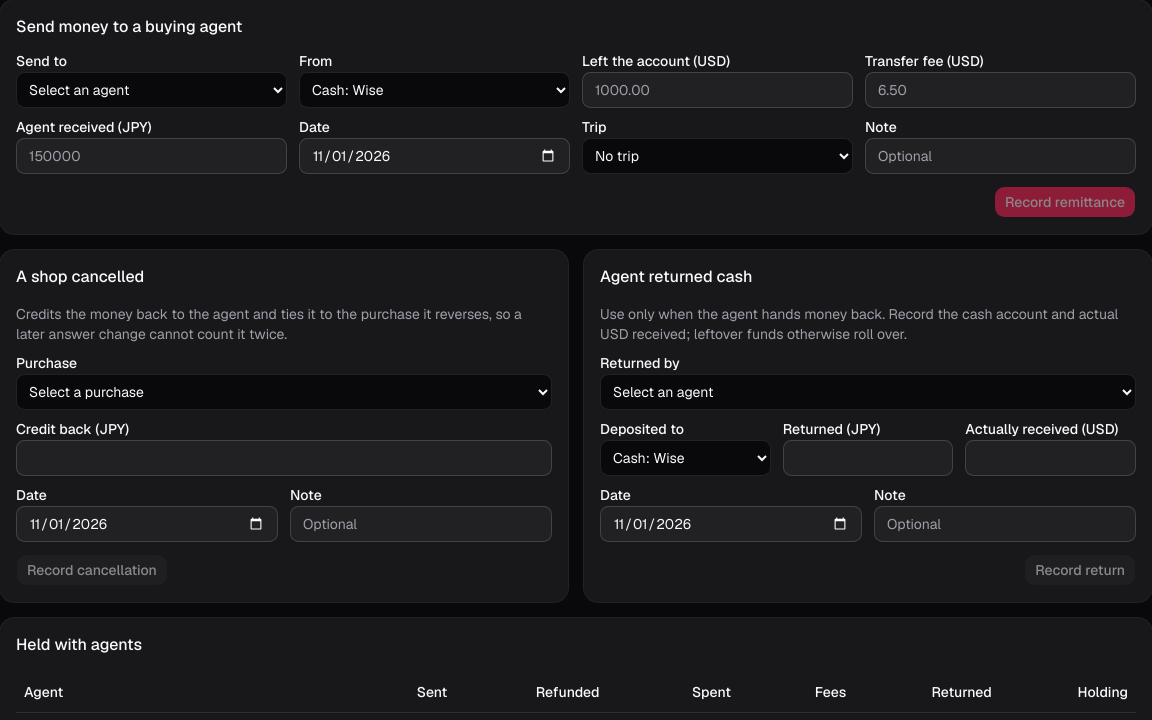
it: BuyerFloatView › offers the whole outstanding amount when a cancelled purchase is picked
This screenshot has width=1152, height=720.
Expected: the dropdown labelled "Send to" is enabled, x1=16 y1=72 x2=287 y2=108
Select "リザードン - cardrush - 1x - ¥40,000 left (agent@example.com)" in the dropdown labelled "Purchase" at coordinates (284, 392), box x1=16 y1=374 x2=552 y2=410
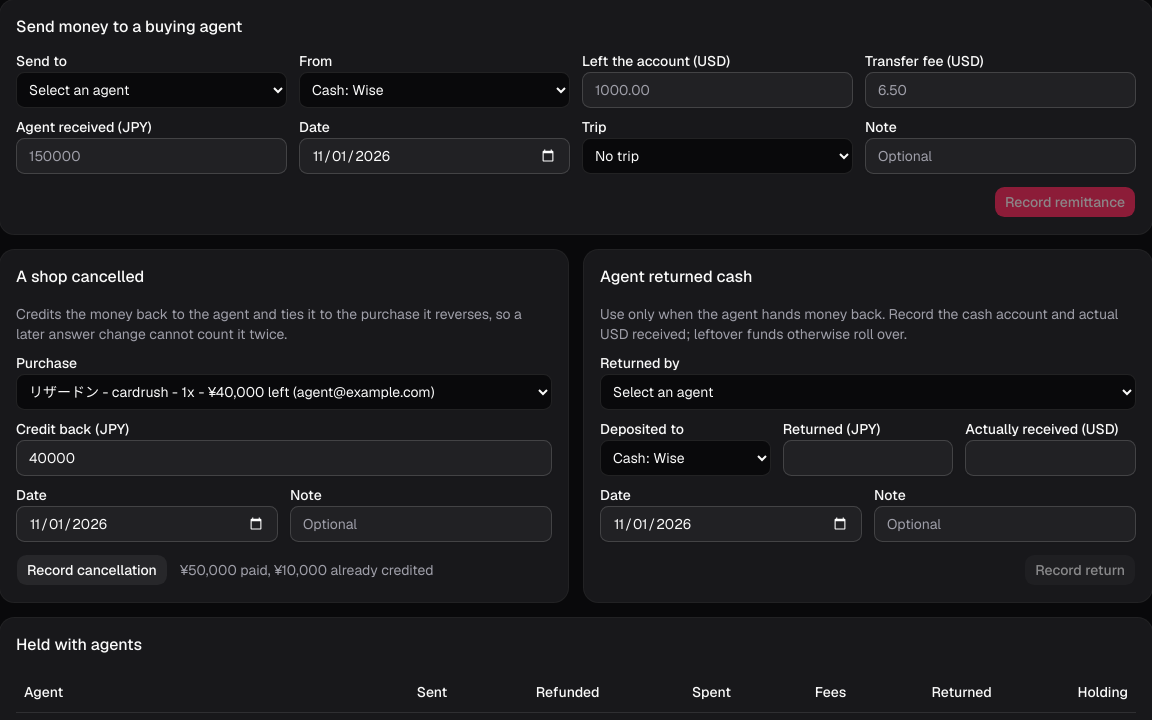
Now the field labelled "Credit back (JPY)" holds "40000", box x1=16 y1=440 x2=552 y2=476
